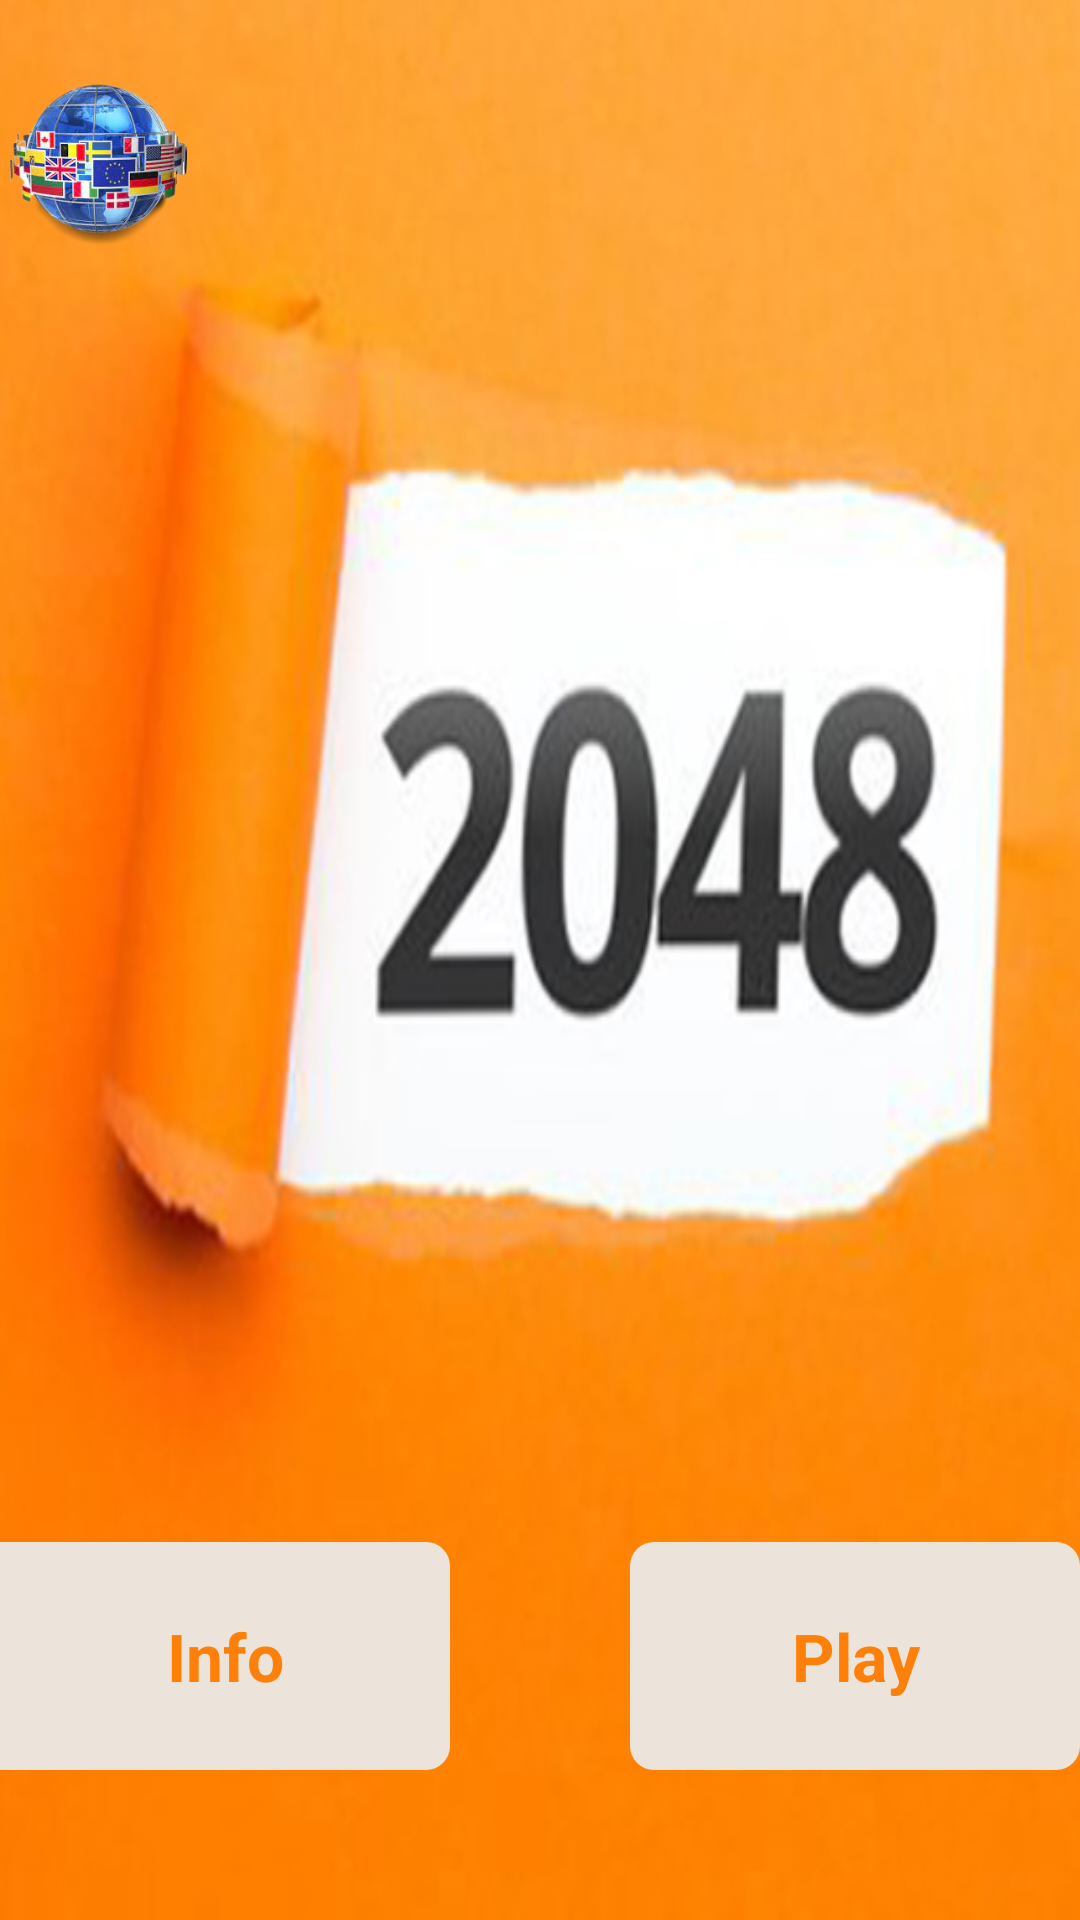

Screen size 1080 x 1920. Icon name, then its center in pixels as [x,y]:
globus: [98,163]
